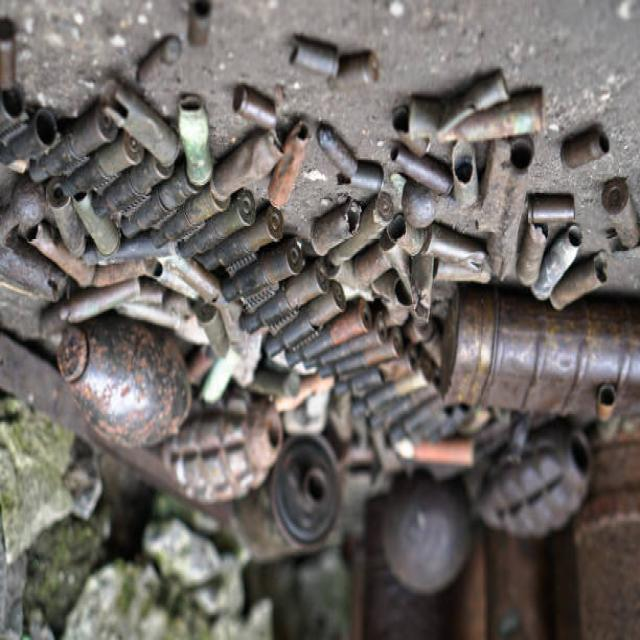grenade: (56, 317, 194, 464), (476, 421, 593, 546), (163, 393, 291, 504)
